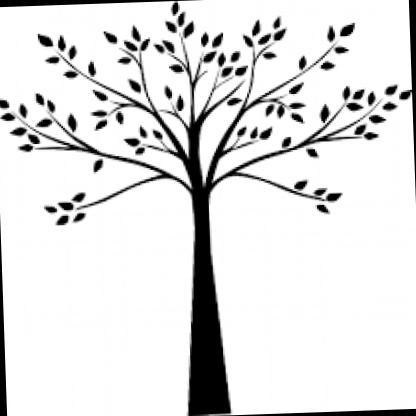branch_sharp: (0, 0, 408, 223)
trunk_reflex: (174, 267, 233, 381)
